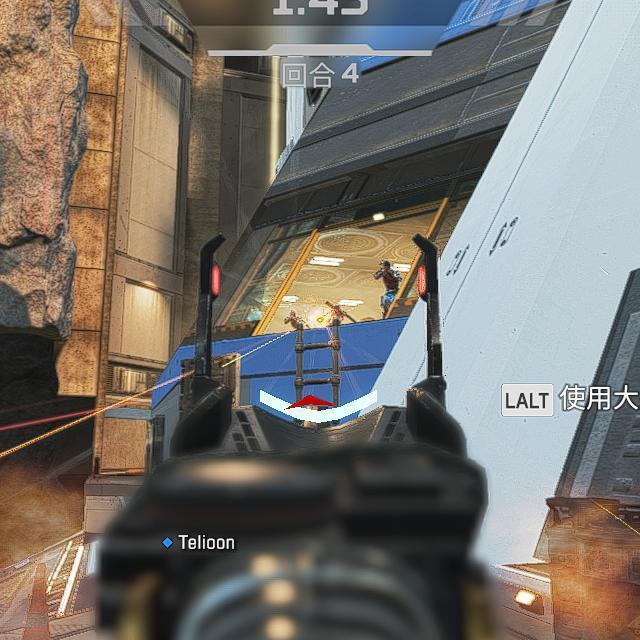avatar: (371, 258, 404, 321)
